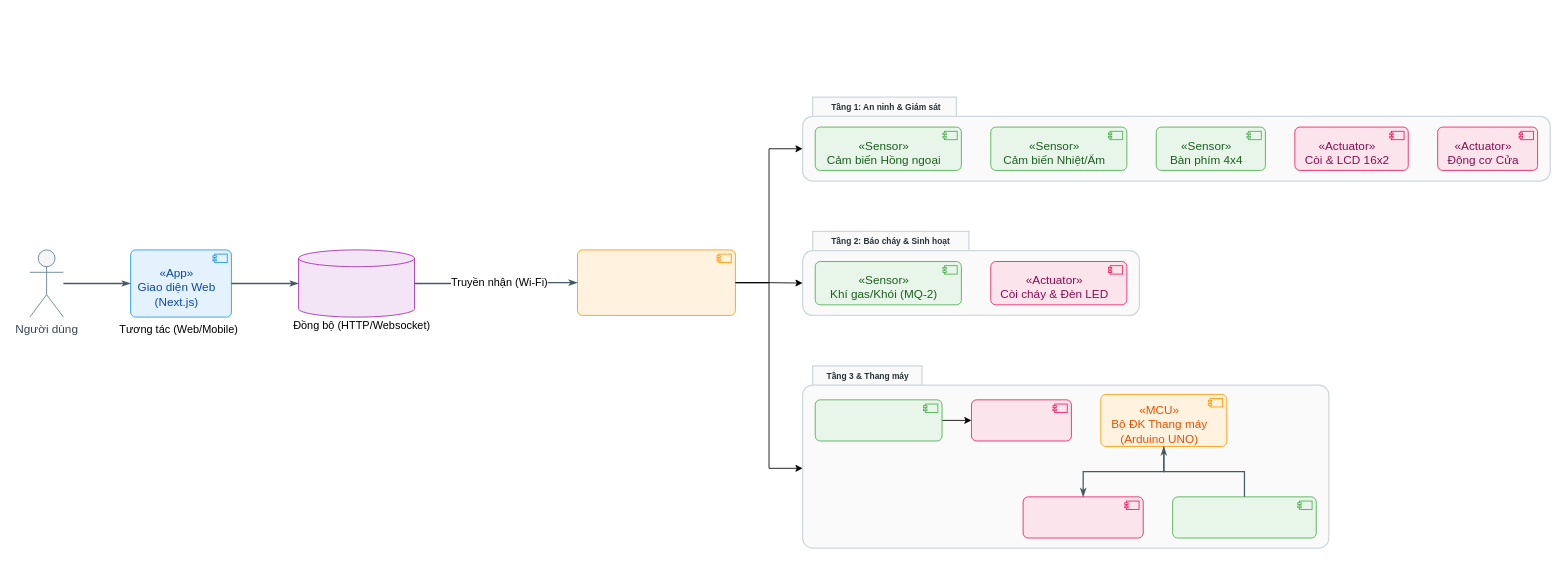
This 1566x563 diagram has some shape labels left out. Here are the shapes that lost their labels. From the top down, the centre of each, then its label:
At point (356, 283): "Firebase Realtime Database".
At point (656, 282): "«MCU» Bộ Điều khiển Trung tâm (ESP8266 NodeMCU)".
At point (878, 420): "«Sensor» Cảm biến Vân tay".
At point (1021, 420): "«Actuator» Khóa cửa T3".
At point (1082, 517): "«Actuator» Động cơ (L298N)".
At point (1244, 517): "«Sensor» Nút gọi & Hành trình".
